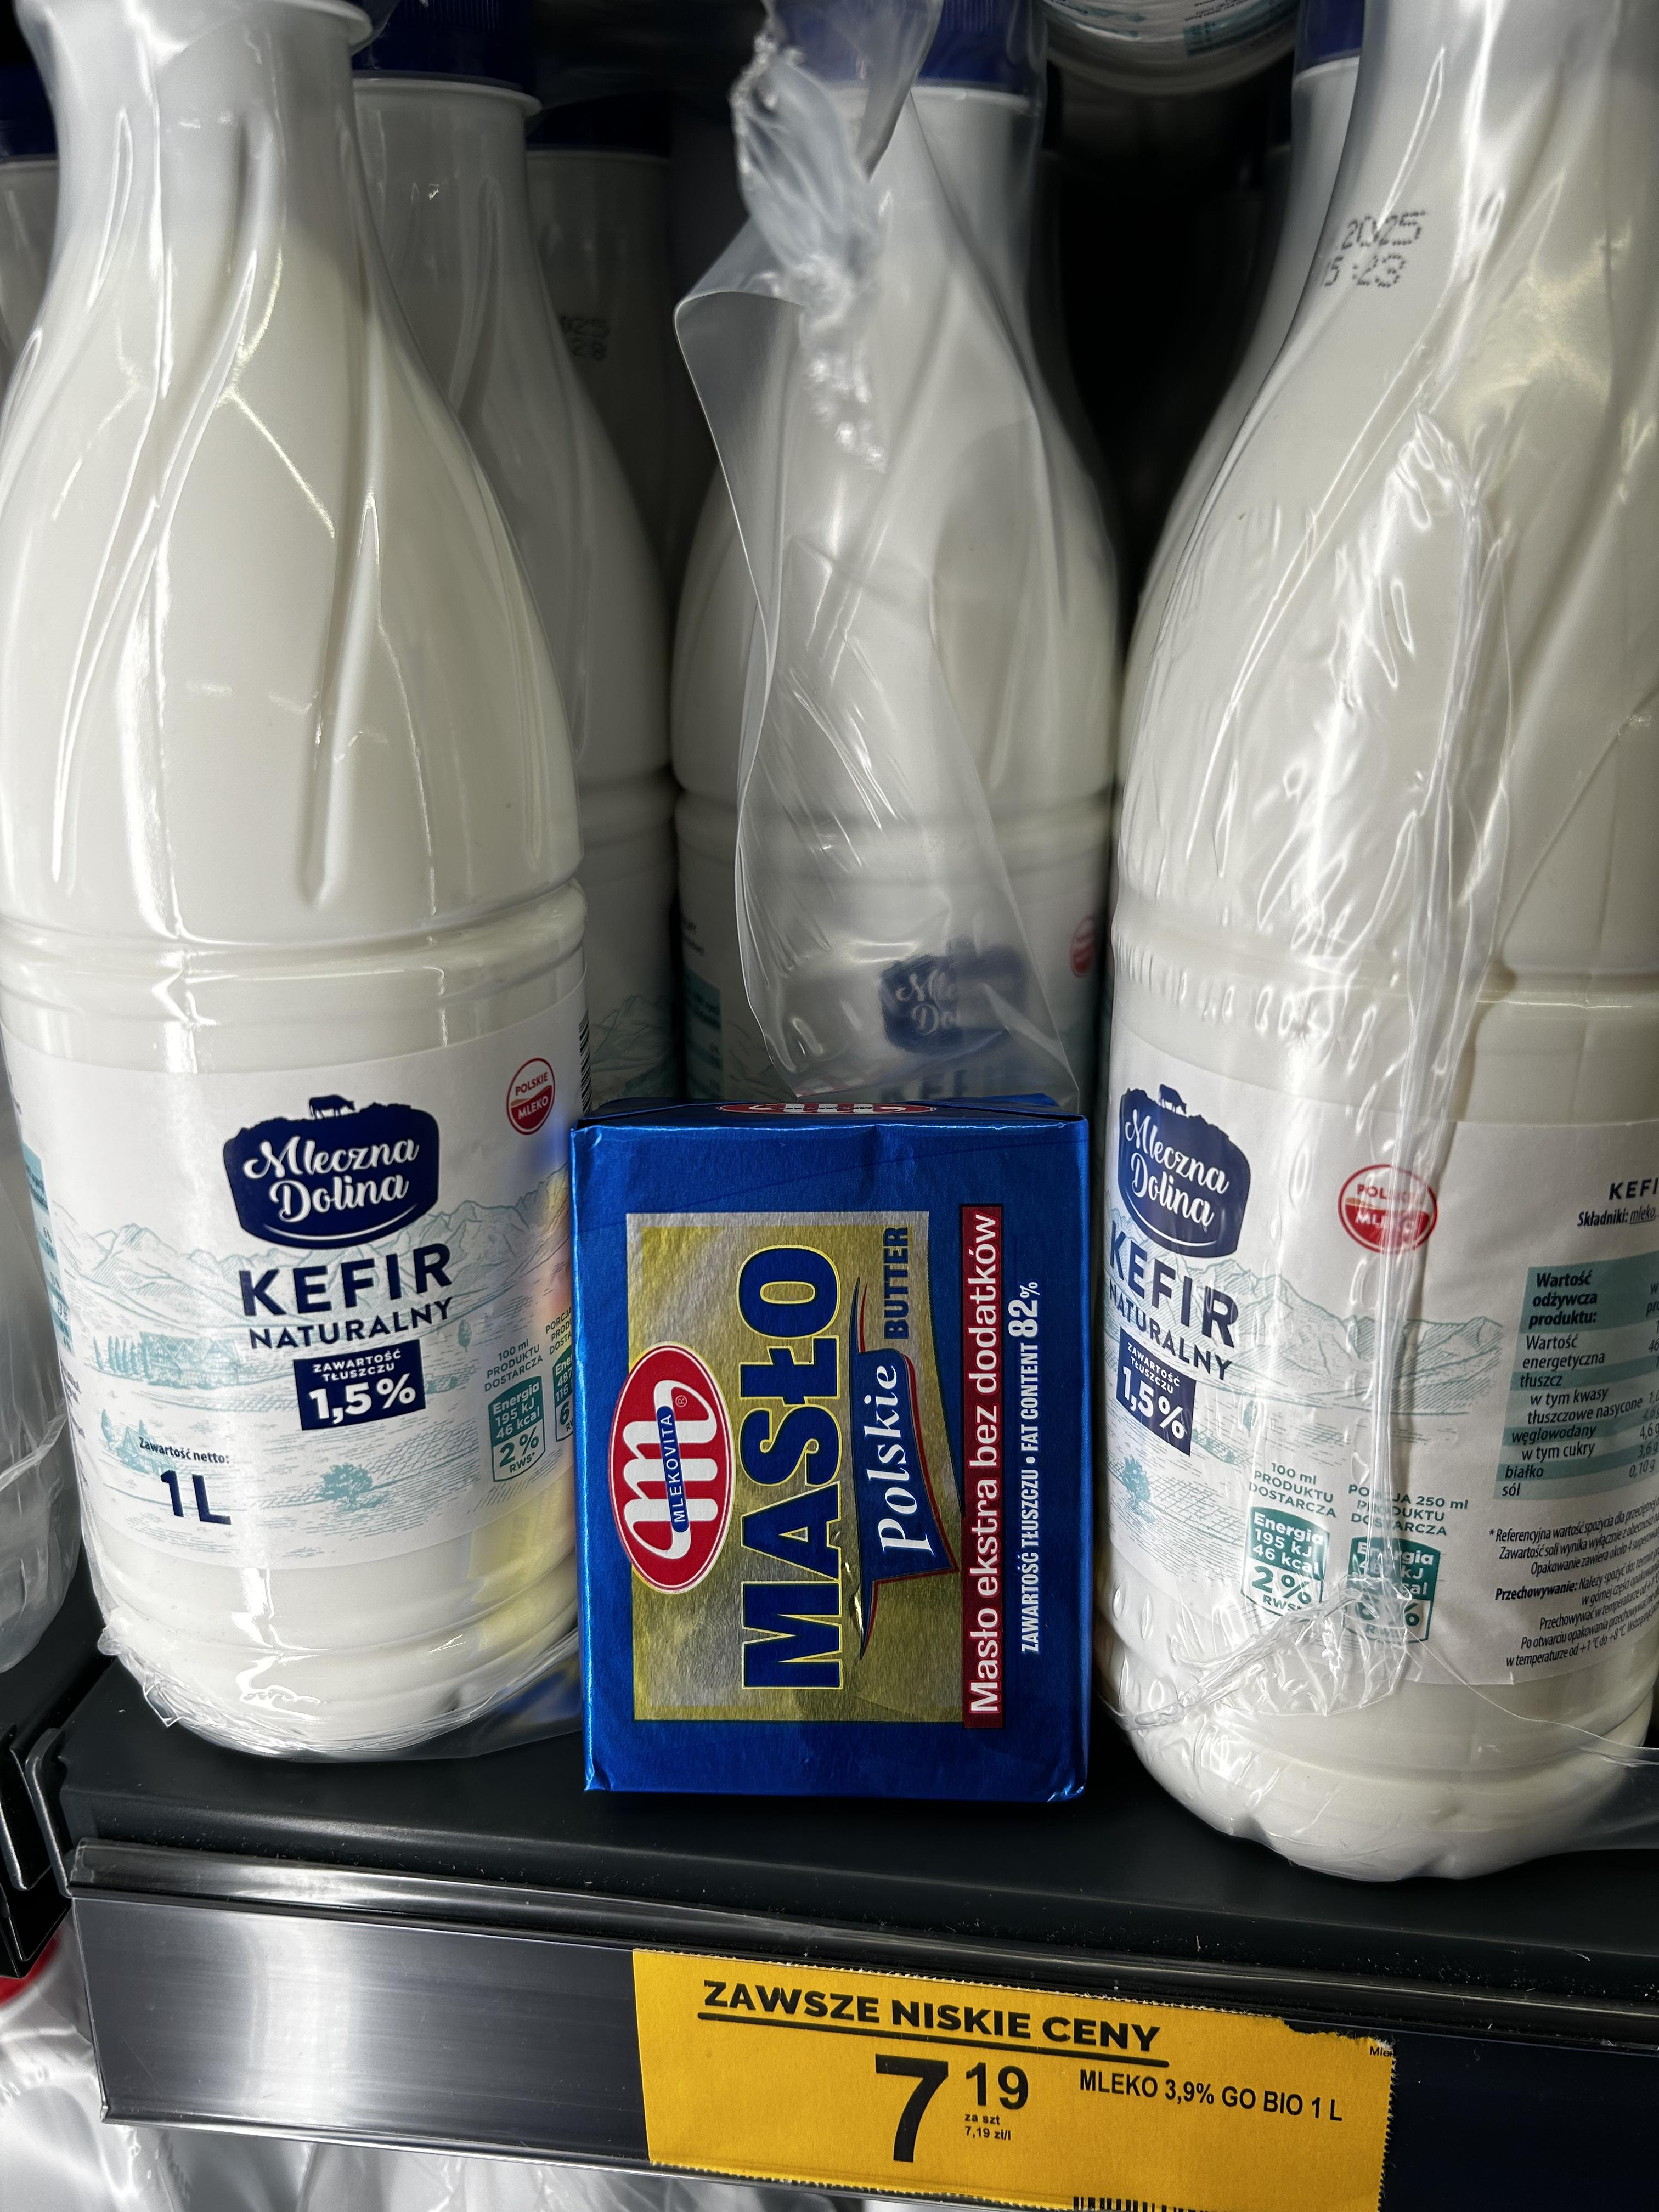Butter: (547, 1068, 1134, 1827)
